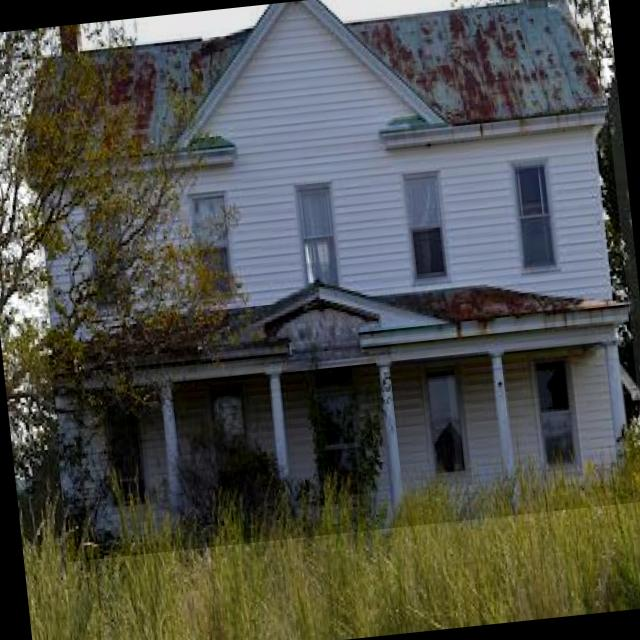House: (14, 0, 640, 561)
